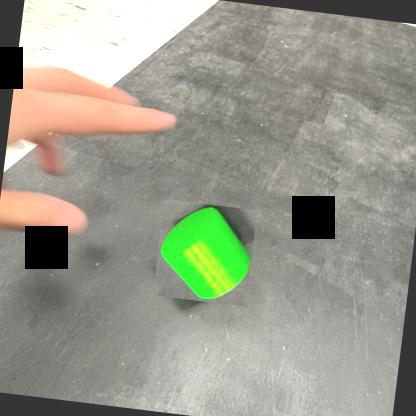green cylinder: (152, 199, 258, 306)
